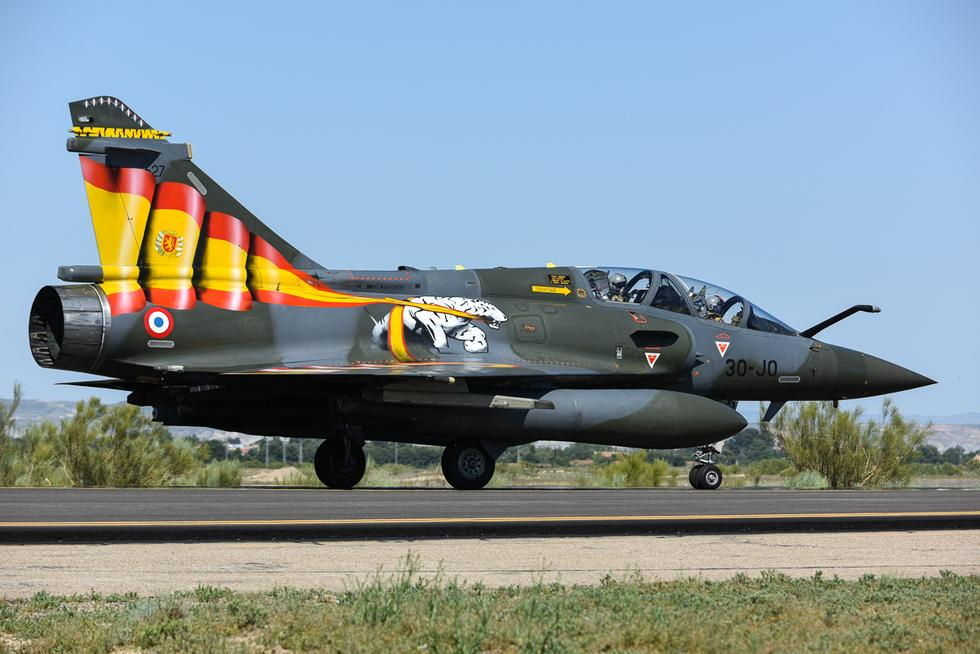airplane: (20, 92, 942, 496)
